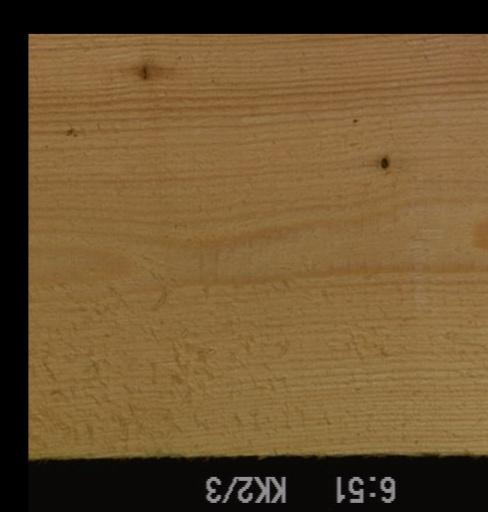dry_knot: (378, 153, 389, 171)
small_knot: (138, 61, 148, 81)
